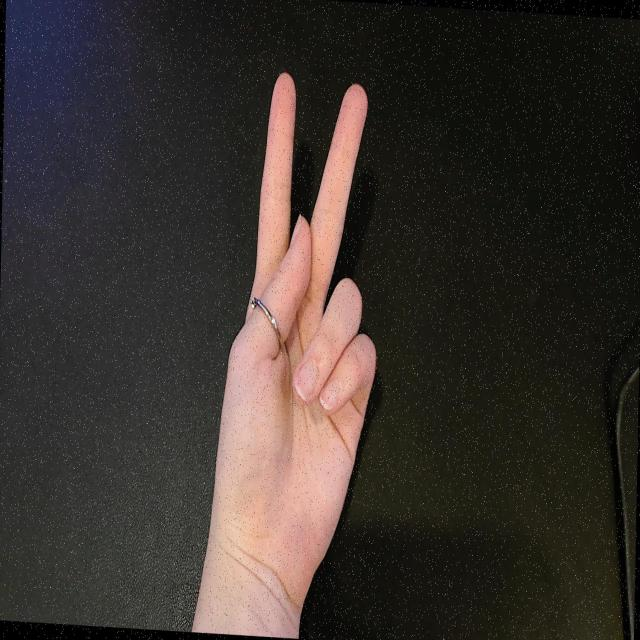K: (203, 65, 385, 594)
